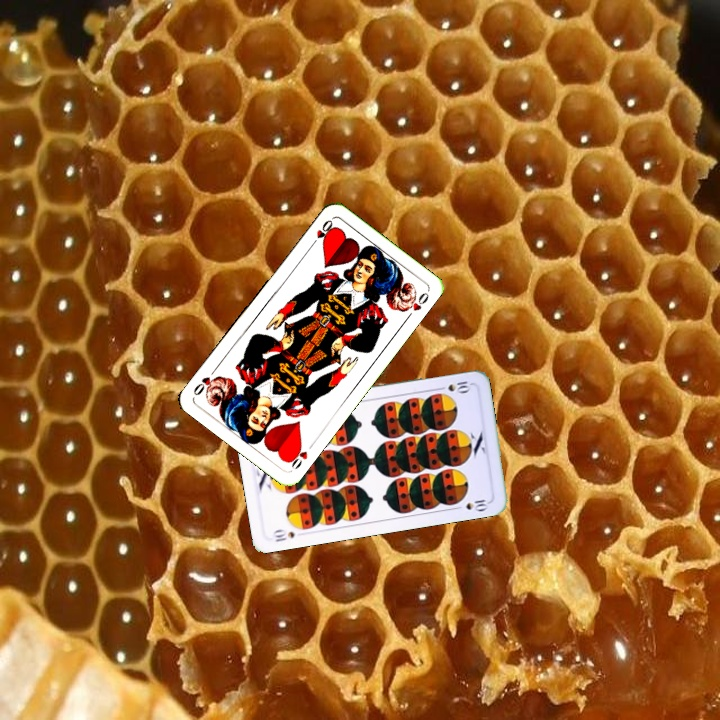HO: (284, 438, 317, 472), (306, 215, 335, 250)
S10: (433, 377, 474, 395), (269, 525, 297, 544)
